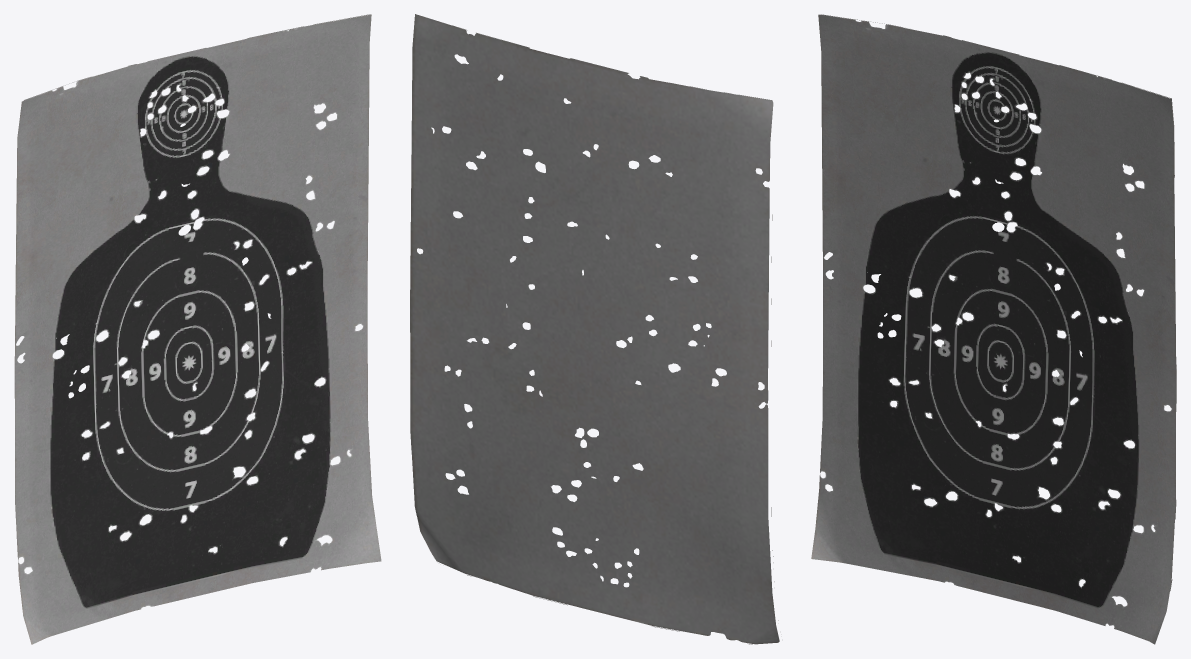
Rendered from SM_Paper_Targets_01f.glb.
3 views of the same model, side by side, from view 1: azimuth 30°, elevation 25°; view 2: azimuth 150°, elevation 25°; view 3: azimuth 330°, elevation 25° (orthographic). The views are drawn at different scales.
Visible parts, largest first — view 1: SM_Paper_Targets_01f; view 2: SM_Paper_Targets_01f; view 3: SM_Paper_Targets_01f.
Part boxes in pixels (x1,y1,x2,y2): SM_Paper_Targets_01f: (14, 14, 381, 644); SM_Paper_Targets_01f: (410, 14, 779, 644); SM_Paper_Targets_01f: (811, 14, 1176, 644).
Size of the model in its own units: 0.6603 by 0.9674 by 0.0693.
1 material, 1 textured.
